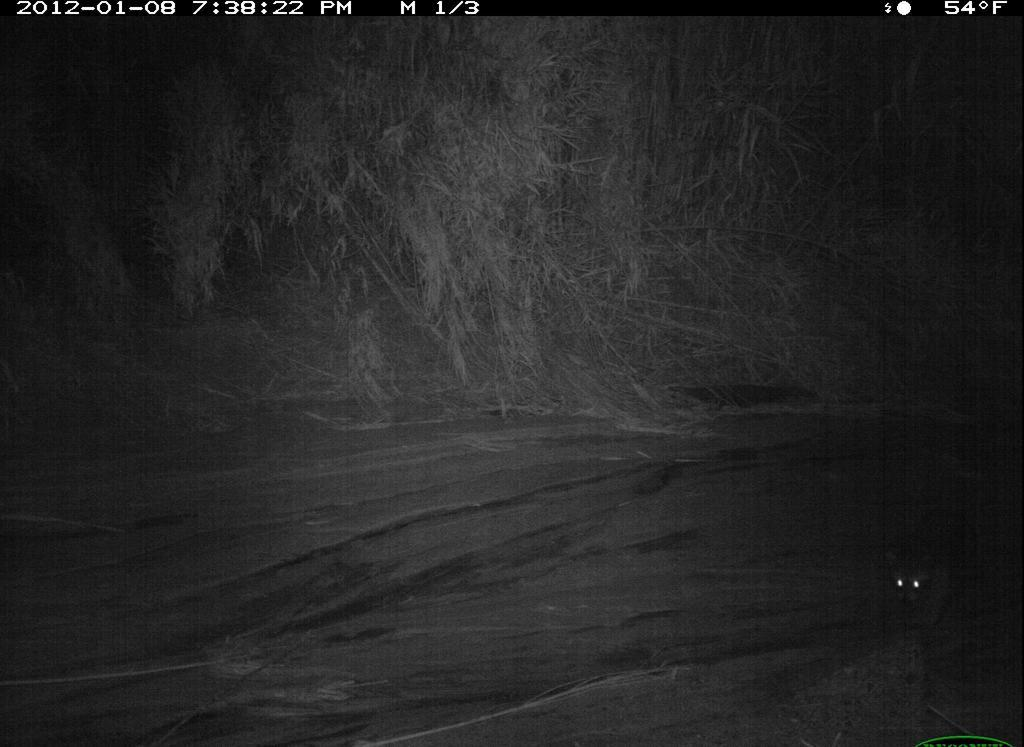raccoon: (876, 534, 1024, 647)
